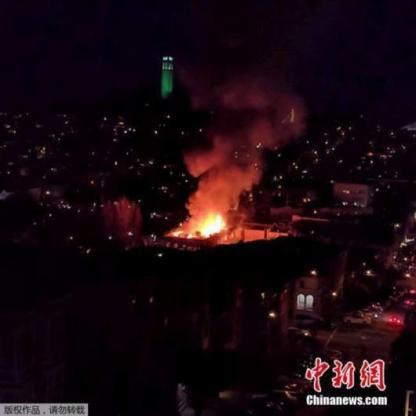fire: (178, 200, 232, 236)
other: (292, 348, 393, 397)
smoke: (187, 126, 260, 202)
